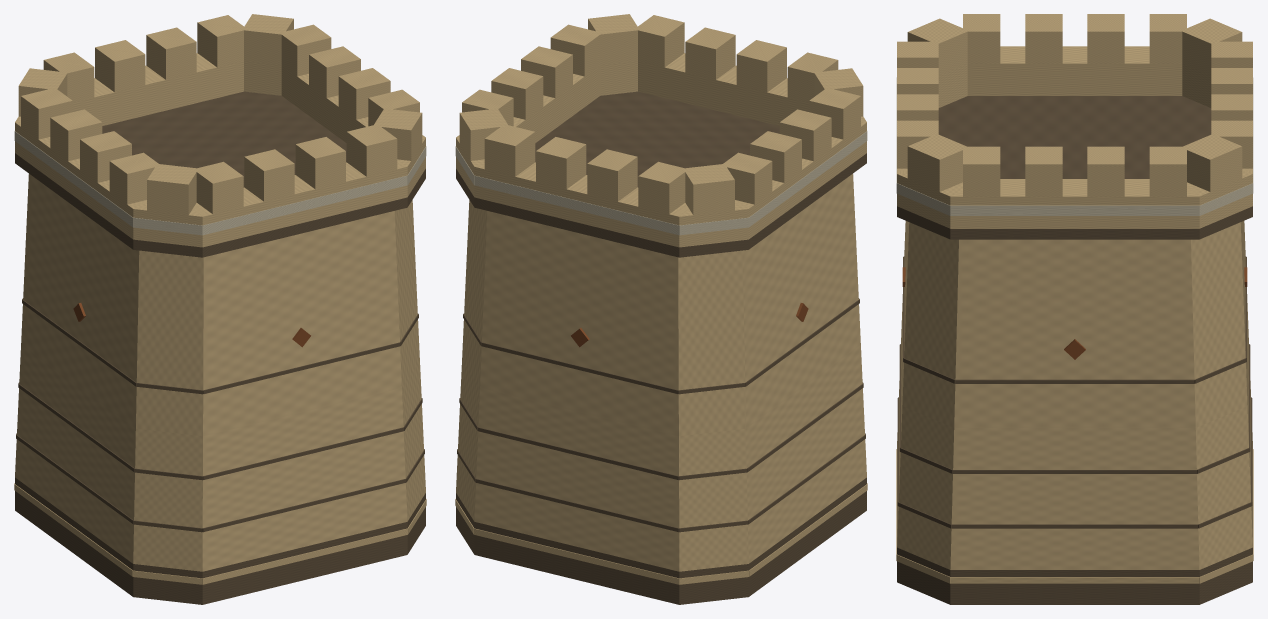
File: Berber_Bastion_Age4_default.fbx
3 views of the same model, side by side, from view 1: azimuth 30°, elevation 25°; view 2: azimuth 150°, elevation 25°; view 3: azimuth 270°, elevation 25° (orthographic). The views are drawn at different scales.
Visible parts, largest first — view 1: default_battered_upper, default_battered_lower, default_continuous_walk_floor, default_stone_foot, default_guard_4_0, default_guard_0_0, default_guard_6_0, default_guard_2_0, default_owner_band_0_0, default_guard_7_0, default_merlon_4_0_2, default_merlon_0_0_3 (+47 smaller); view 2: default_battered_upper, default_battered_lower, default_continuous_walk_floor, default_stone_foot, default_guard_0_0, default_guard_4_0, default_guard_6_0, default_guard_2_0, default_owner_band_4_0, default_guard_5_0, default_merlon_0_0_2, default_merlon_4_0_2 (+47 smaller); view 3: default_battered_upper, default_battered_lower, default_continuous_walk_floor, default_stone_foot, default_guard_6_0, default_guard_2_0, default_owner_band_2_0, default_merlon_3_0_0, default_merlon_1_0_0, default_foundation_bond_2, default_guard_1_0, default_guard_3_0 (+37 smaller).
Part boxes in pixels (x1,y1,x2,y2): default_battered_upper: (21,174,419,436); default_battered_lower: (15,345,425,571); default_continuous_walk_floor: (15,91,425,257); default_stone_foot: (15,477,425,604); default_guard_4_0: (72,53,243,125); default_guard_0_0: (193,159,407,247); default_guard_6_0: (15,122,146,239); default_guard_2_0: (281,65,425,142); default_owner_band_0_0: (202,175,407,235); default_guard_7_0: (133,200,206,247); default_merlon_4_0_2: (95,49,145,92); default_merlon_0_0_3: (346,133,397,176); default_battered_upper: (462,174,860,436); default_battered_lower: (456,345,866,571); default_continuous_walk_floor: (456,91,866,257); default_stone_foot: (456,477,866,604); default_guard_0_0: (638,53,809,125); default_guard_4_0: (474,161,689,247); default_guard_6_0: (735,121,866,239); default_guard_2_0: (456,65,600,142); default_owner_band_4_0: (474,175,679,235); default_guard_5_0: (675,200,748,247); default_merlon_0_0_2: (685,35,735,79); default_merlon_4_0_2: (587,158,637,201); default_battered_upper: (902,221,1247,427); default_battered_lower: (897,312,1252,569); default_continuous_walk_floor: (897,96,1252,239); default_stone_foot: (897,547,1252,604); default_guard_6_0: (967,46,1182,95); default_guard_2_0: (950,179,1199,228); default_owner_band_2_0: (950,205,1199,215); default_merlon_3_0_0: (1187,147,1242,191); default_merlon_1_0_0: (907,148,962,191); default_foundation_bond_2: (950,577,1199,583); default_guard_1_0: (897,170,962,228); default_guard_3_0: (1187,169,1252,228).
Size of the model in its own units: 603 by 820 by 603.
Materials: 4 (4 with a texture image).
